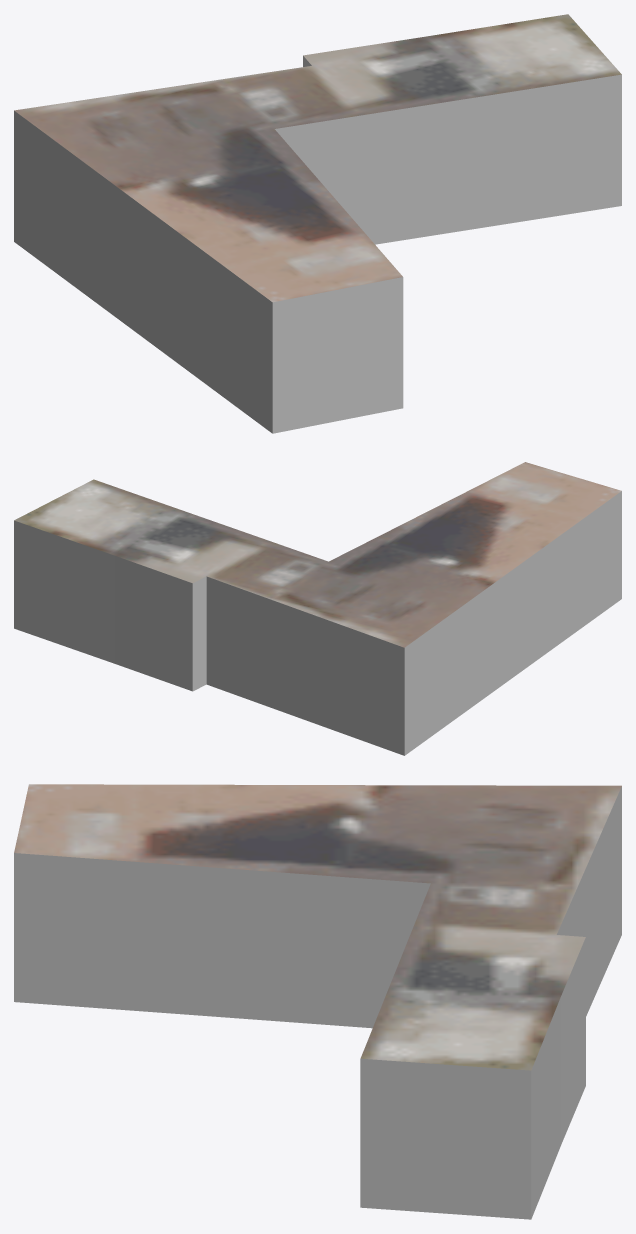
Rendered from DEBW_0010007Tx6f.gltf.
3 renders of one model, top to bottom at view 1: azimuth 30°, elevation 25°; view 2: azimuth 150°, elevation 25°; view 3: azimuth 270°, elevation 25°, orthographic. The views are drawn at different scales.
Parts seen in each view (by area): view 1: Z_UP; view 2: Z_UP; view 3: Z_UP.
Boxes of the visible parts, box(x1,y1,x2,y2) form: Z_UP: box(14, 14, 621, 433); Z_UP: box(14, 462, 621, 755); Z_UP: box(14, 784, 621, 1219).
Size of the model in its own units: 22.72 by 5.52 by 20.39.
Materials: 2 (1 with a texture image).
